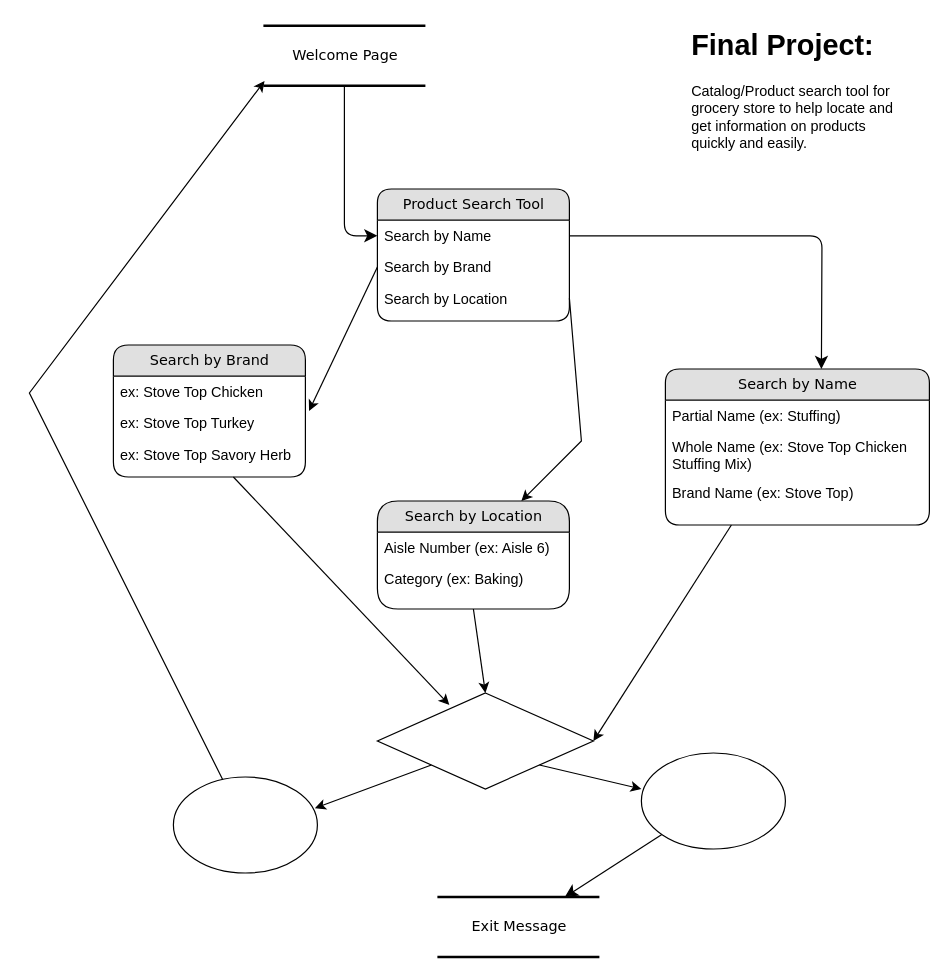
Image size: 950x978. Some labels were removed from this diagram. The centre of each missing label's shape, as x and y in pixels:
Look Up Another Item?: the point at 484,740
No: the point at 712,800
Yes: the point at 244,824
